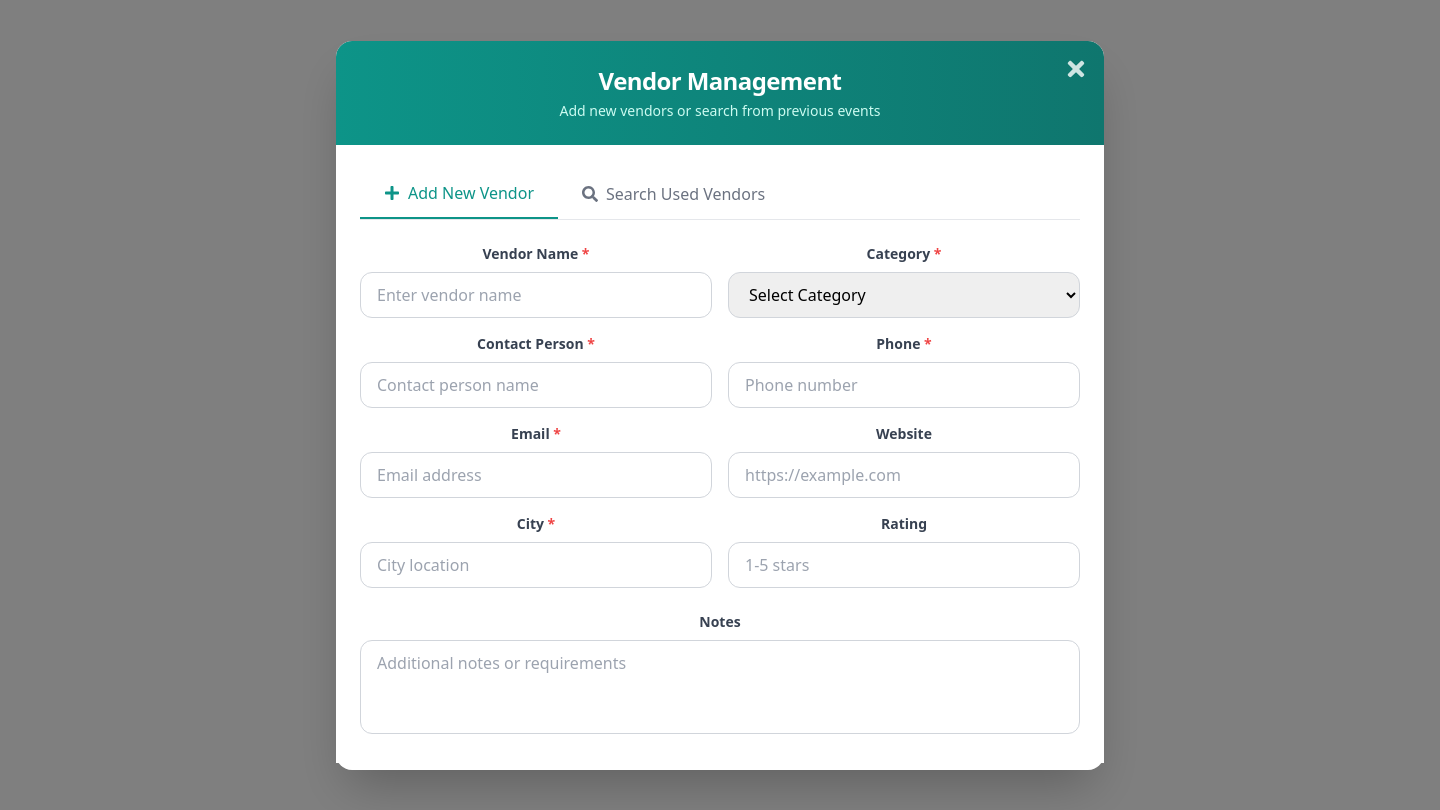
NewVendorModal › switches between tabs correctly
Note: Click the Search tab by role
Click the button "Search Used Vendors" at (674, 194), box [558, 168, 789, 218]
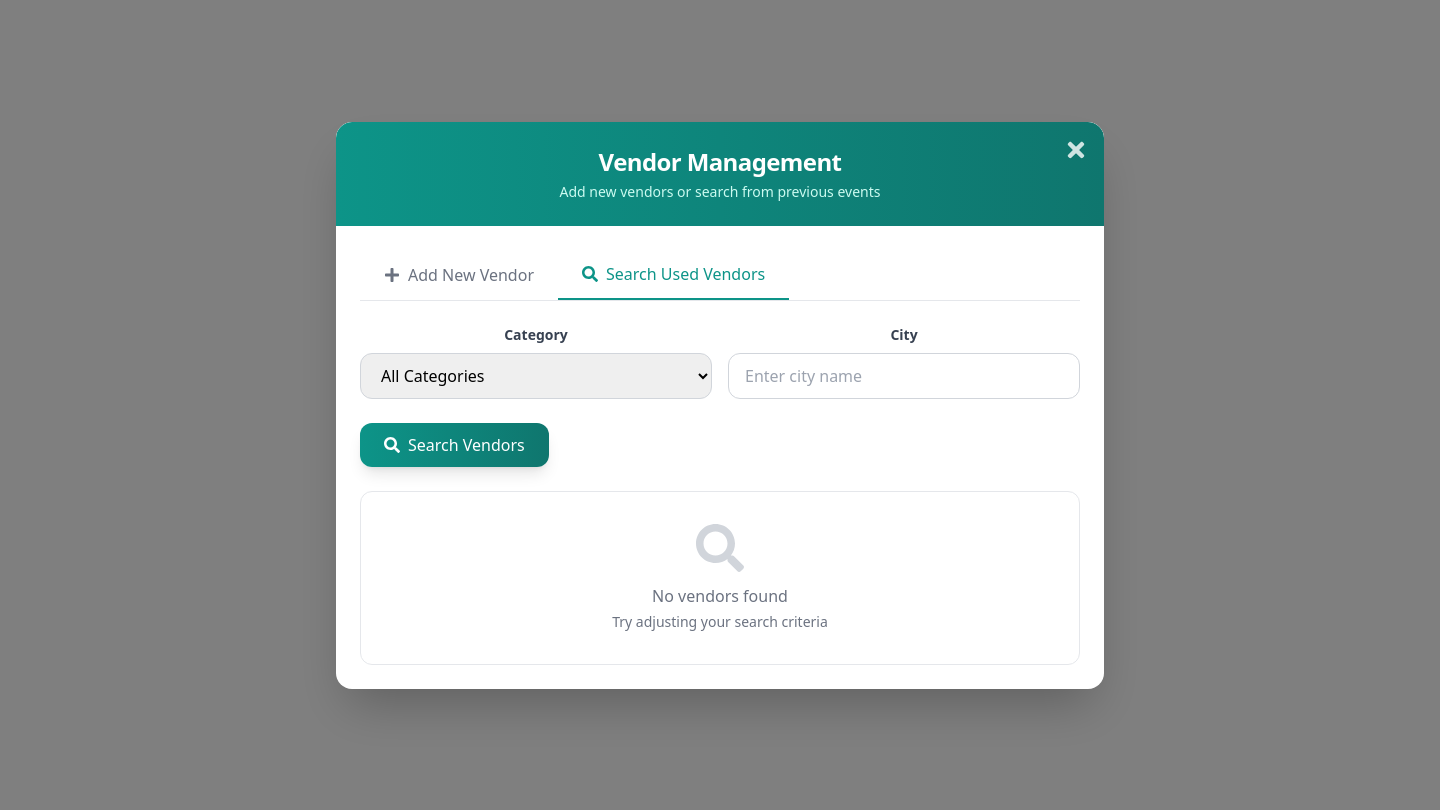
Expected: the button "Search Vendors" is shown, [360, 422, 549, 466]
Note: Switch back using the Add tab button
Click the button "Add New Vendor" at (459, 274), box [360, 250, 558, 300]
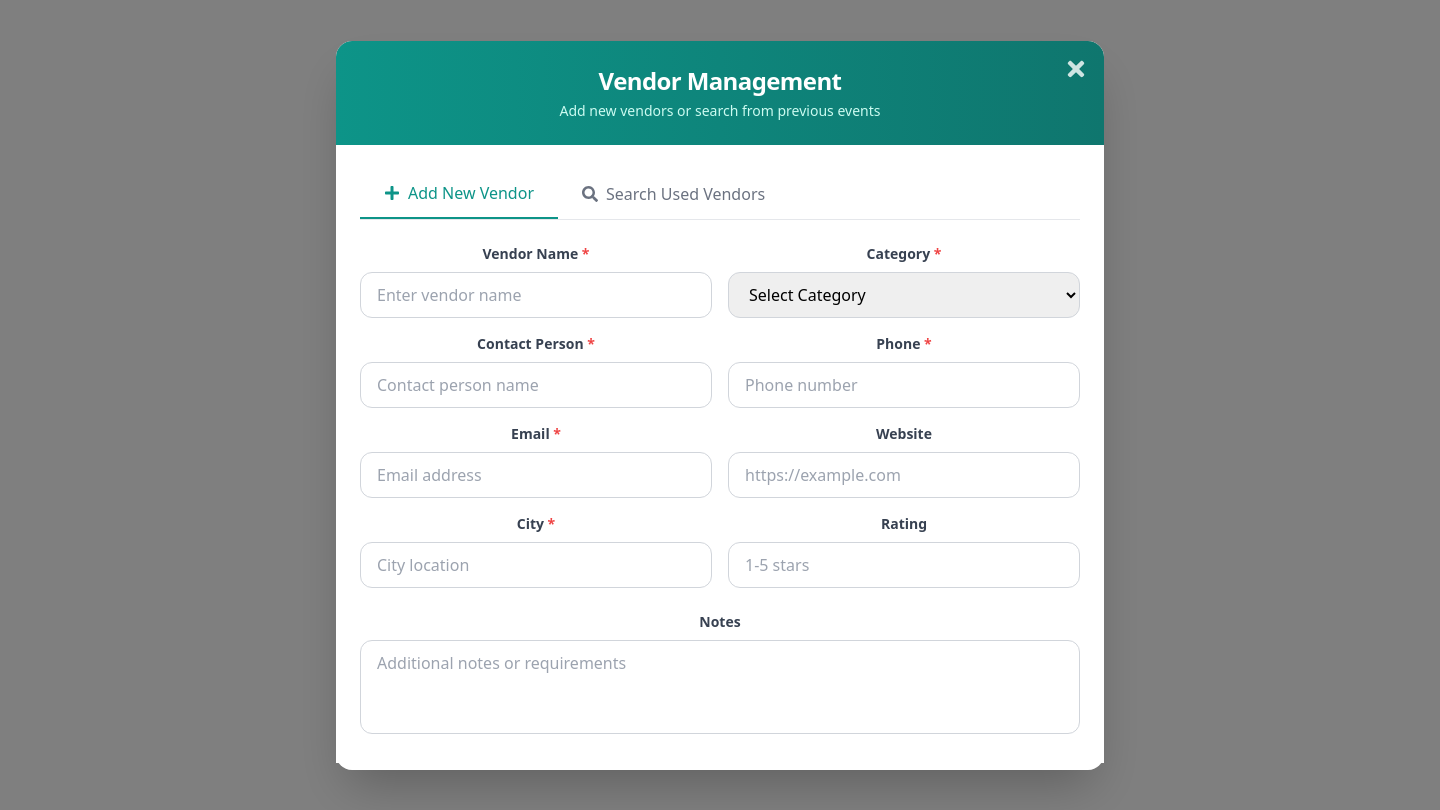
Expected: the field with placeholder "Enter vendor name" is shown, [360, 272, 712, 318]
